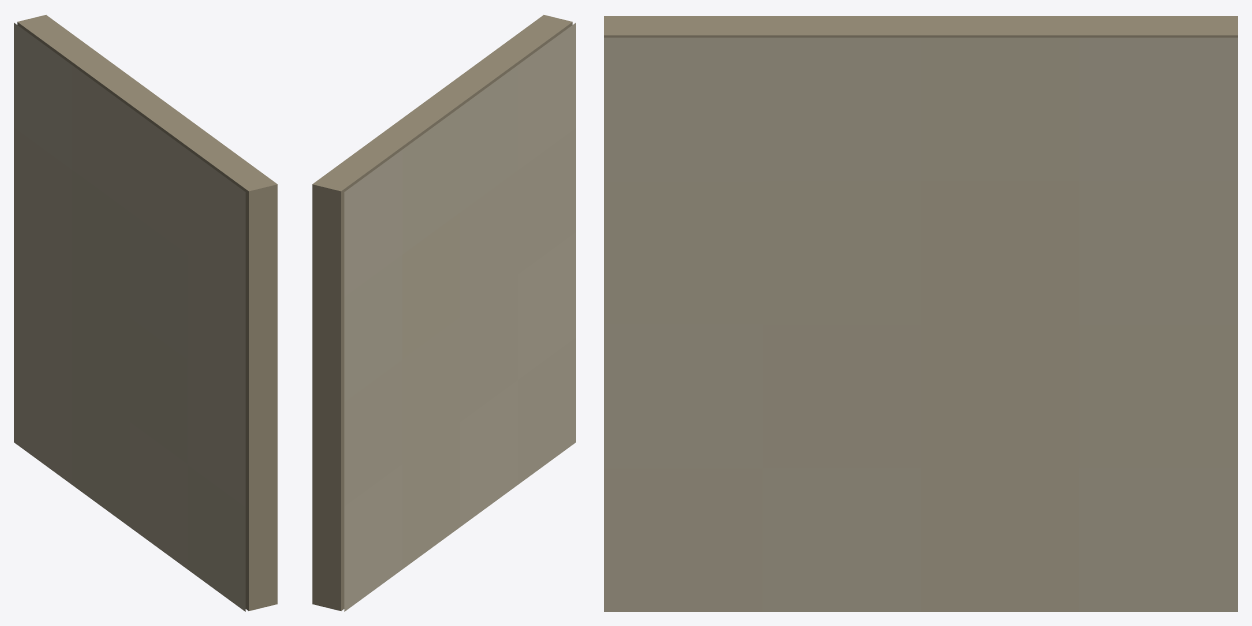
File: wall-plaster.glb
The picture shows the model from 3 angles, left to right: view 1: azimuth 30°, elevation 25°; view 2: azimuth 150°, elevation 25°; view 3: azimuth 270°, elevation 25°; orthographic projection. The views are drawn at different scales.
Visible parts, largest first — view 1: wall-plaster; view 2: wall-plaster; view 3: wall-plaster.
Boxes of the visible parts, x1,y1,x2,y2 form: wall-plaster: [14, 15, 277, 611]; wall-plaster: [312, 15, 575, 611]; wall-plaster: [604, 16, 1237, 611].
Size of the model in its own units: 0.088 by 1 by 1.
